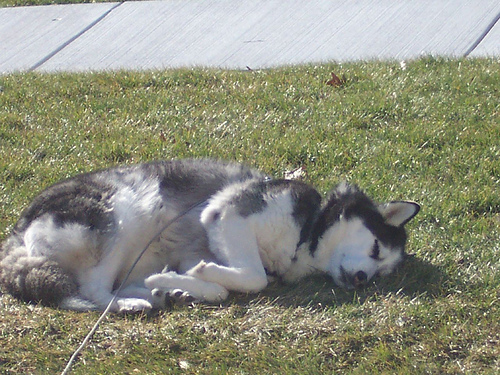dog: (1, 156, 422, 317)
